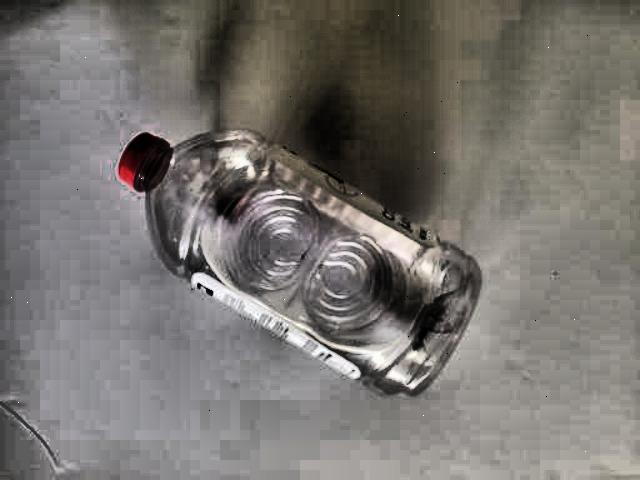Bottles: (88, 112, 504, 424)
